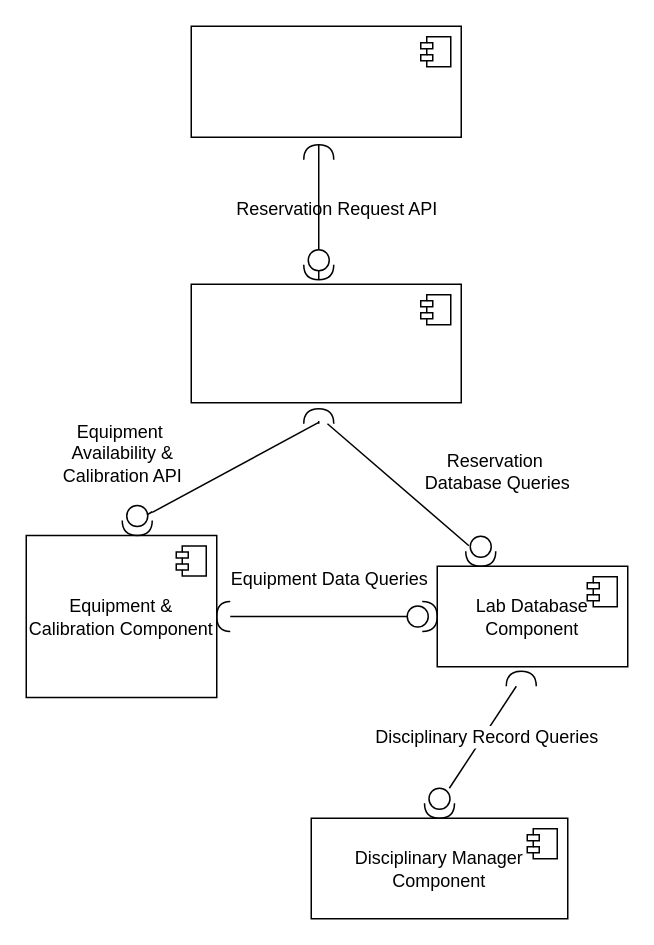
Image size: 654x945. Some labels were removed from this diagram. The box of each missing label's shape, as (x1, y1, x2, y2) in pixels:
Lab Portal Component: (190, 25, 461, 137)
Reservation Manager Component: (190, 283, 461, 403)
